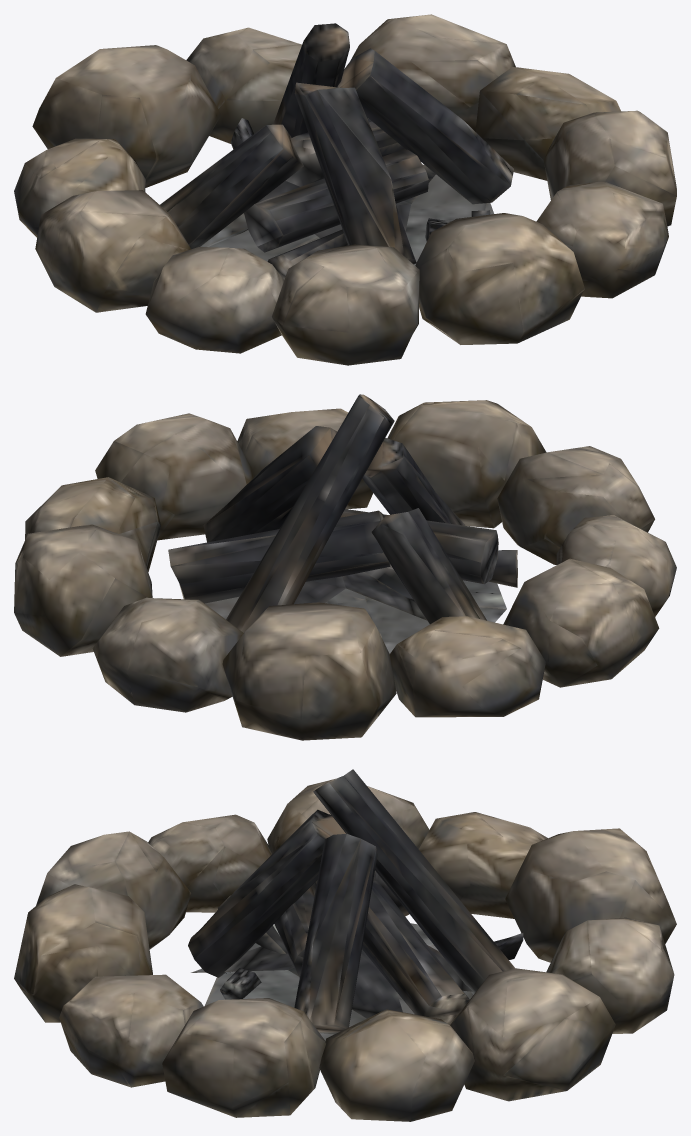
File: prop_campfire.glb
3 renders of one model, top to bottom at view 1: azimuth 30°, elevation 25°; view 2: azimuth 150°, elevation 25°; view 3: azimuth 270°, elevation 25°, orthographic.
Bounding box in the file's own units: 1.8 × 0.6358 × 1.79.
1 material, 1 textured.
